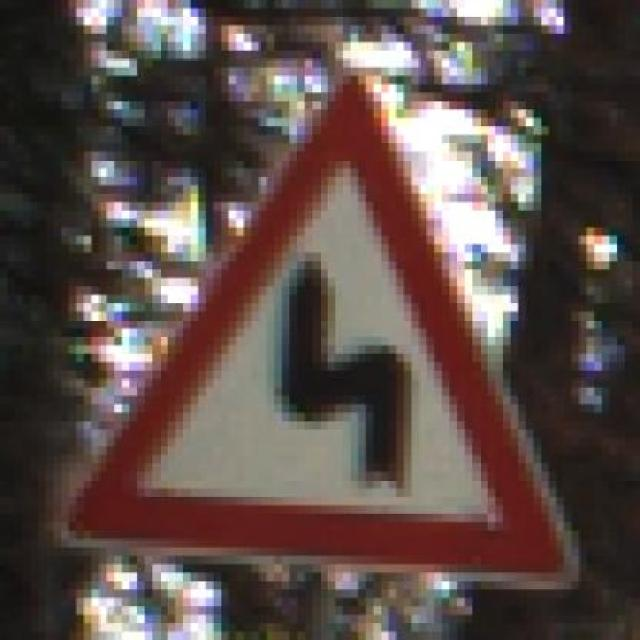Left Zig Zag Traffic: (53, 42, 595, 590)
